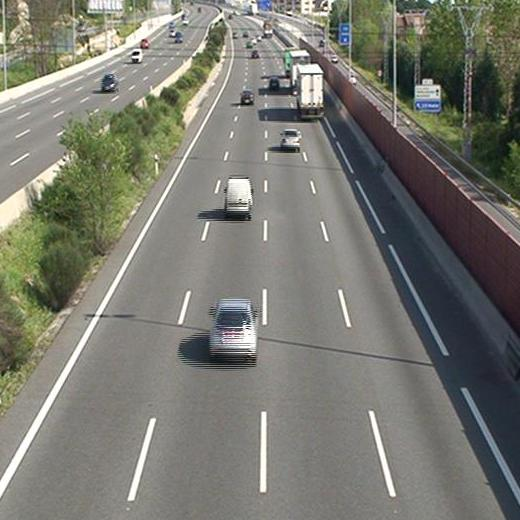car: (208, 300, 257, 357), (280, 128, 301, 149), (240, 90, 253, 105), (268, 77, 279, 88), (250, 49, 259, 58)
truck: (295, 65, 325, 119)
van: (224, 177, 253, 216)
